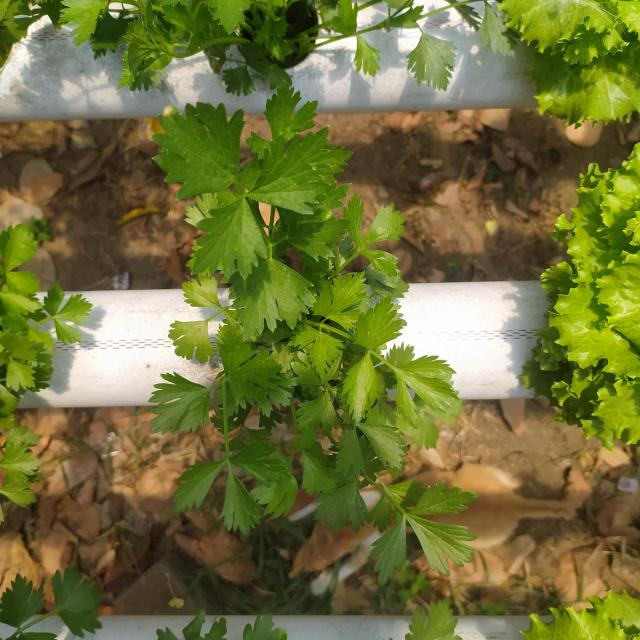Wet Waste: (89, 168, 577, 496)
